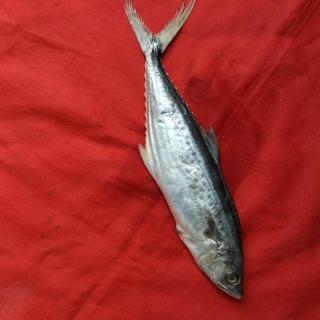Ikan: (113, 3, 251, 301)
